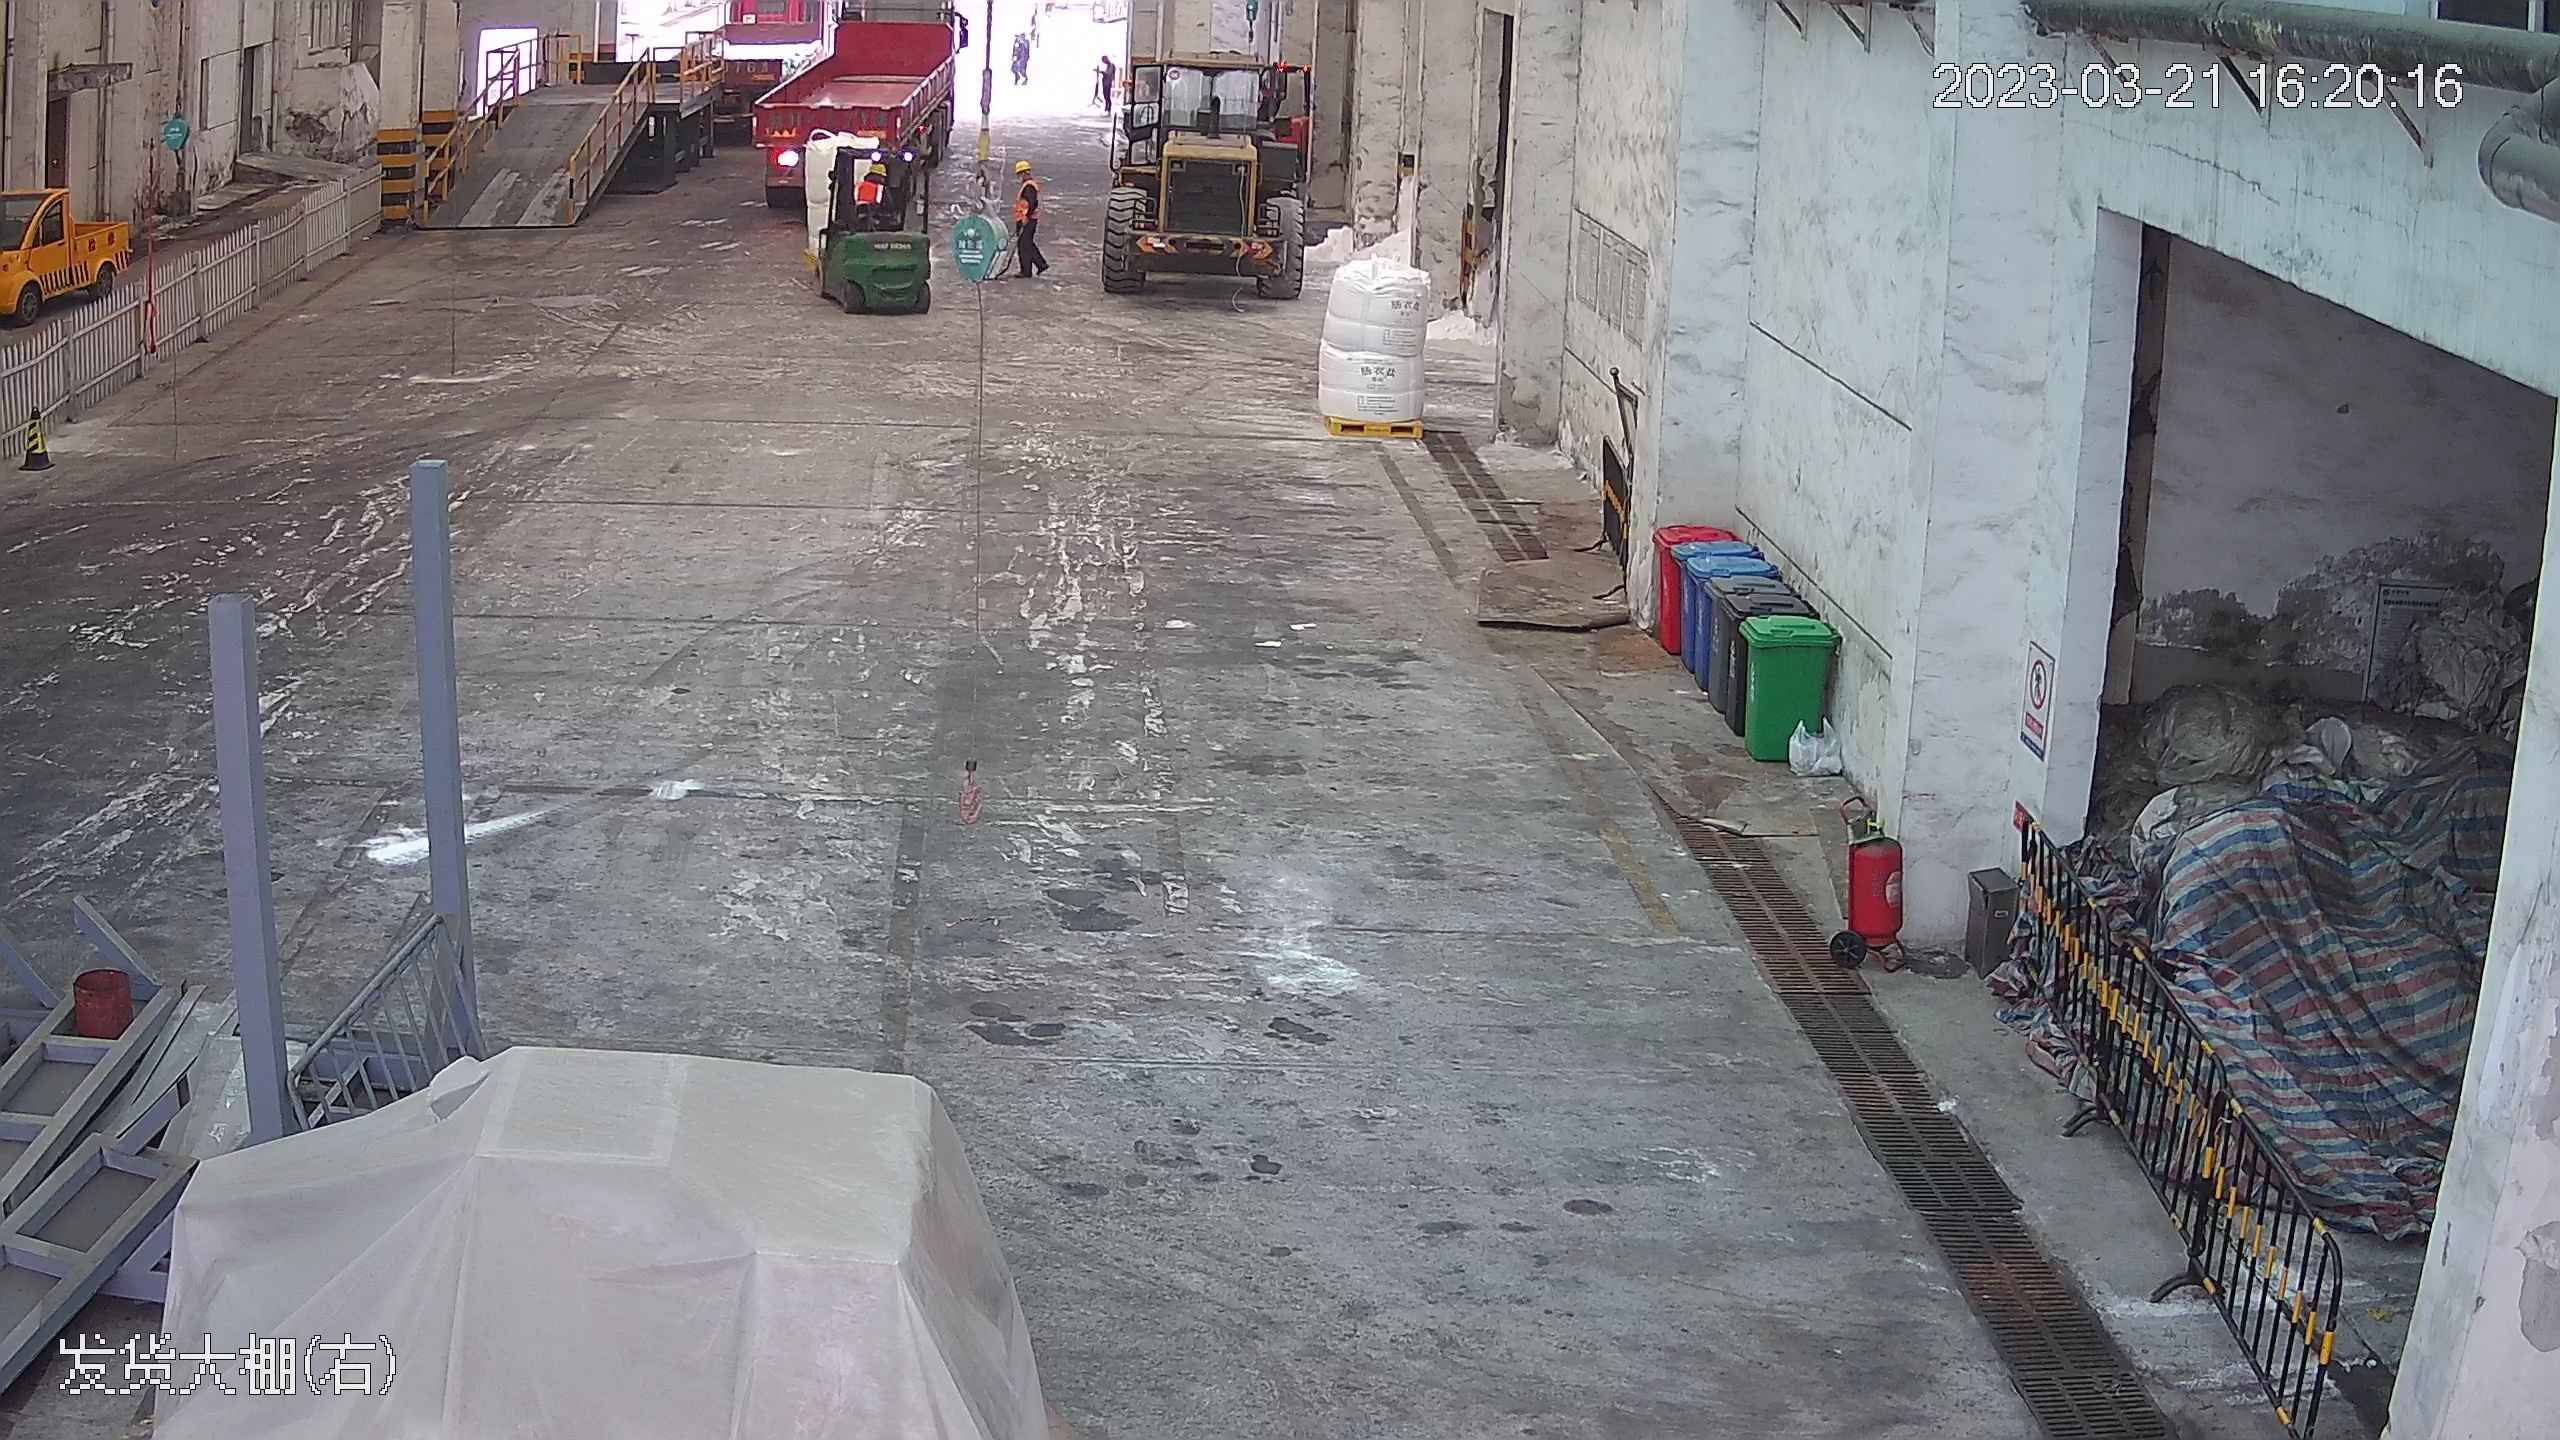head: (1007, 154, 1044, 194)
helmet: (1011, 158, 1033, 176), (868, 159, 887, 176)
people: (1000, 151, 1051, 286), (1008, 25, 1035, 87), (1096, 53, 1117, 117)
truck: (736, 7, 965, 201)
